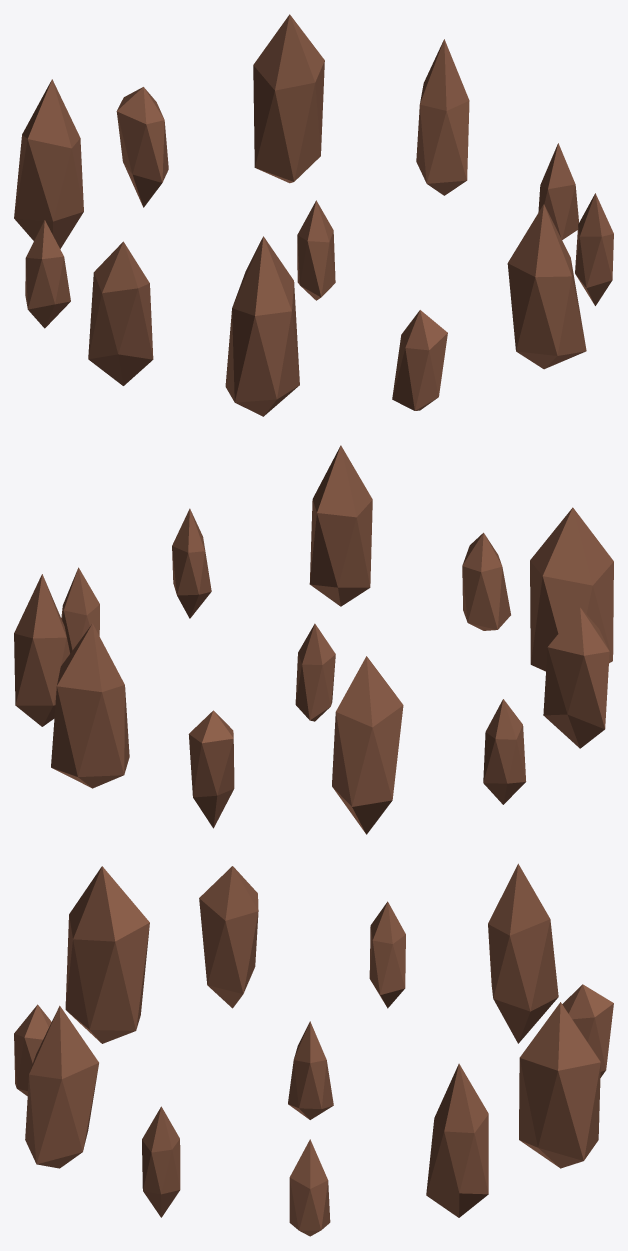
File: stone_ring.glb
3 renders of one model, top to bottom at view 1: azimuth 30°, elevation 25°; view 2: azimuth 150°, elevation 25°; view 3: azimuth 270°, elevation 25°, orthographic. The views are drawn at different scales.
Visible parts, largest first — view 1: stone_ring; view 2: stone_ring; view 3: stone_ring.
Part boxes in pixels (x1=…): stone_ring: x1=14, y1=14, x2=613, y2=416; stone_ring: x1=14, y1=445, x2=613, y2=834; stone_ring: x1=14, y1=863, x2=613, y2=1236.
Size of the model in its own units: 12.91 by 4.35 by 13.08.
